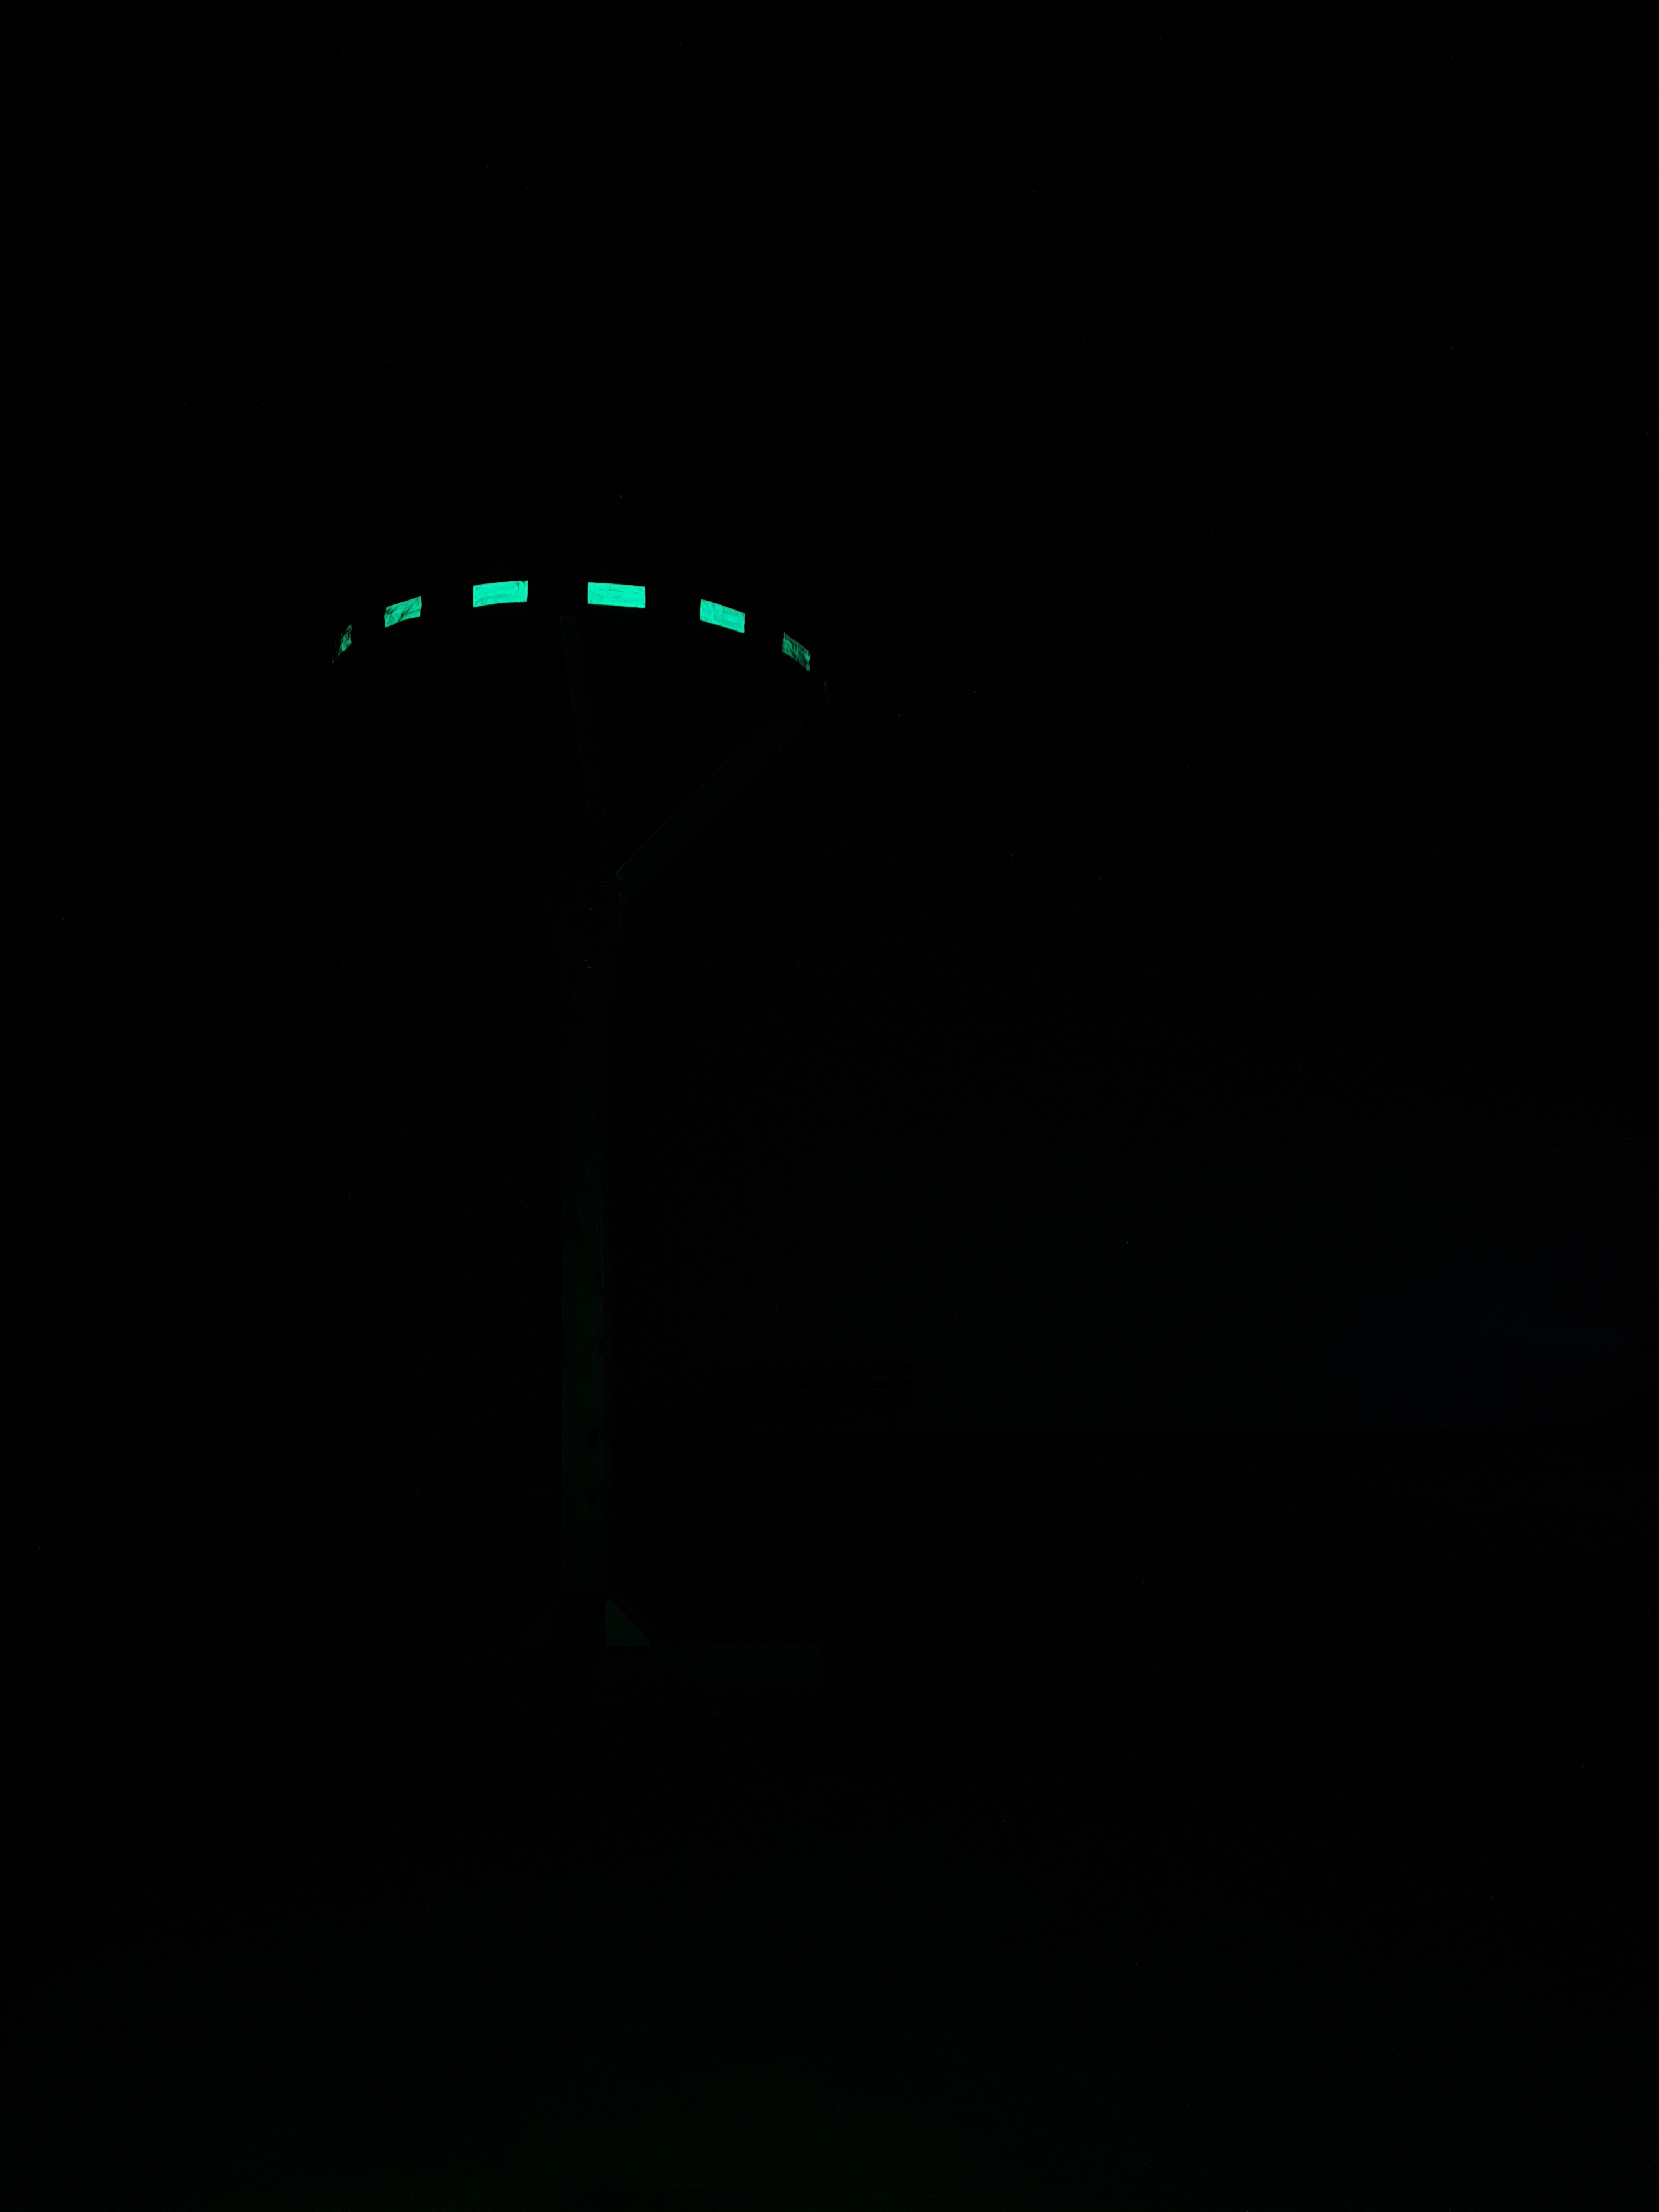hoop: (331, 570, 816, 683)
